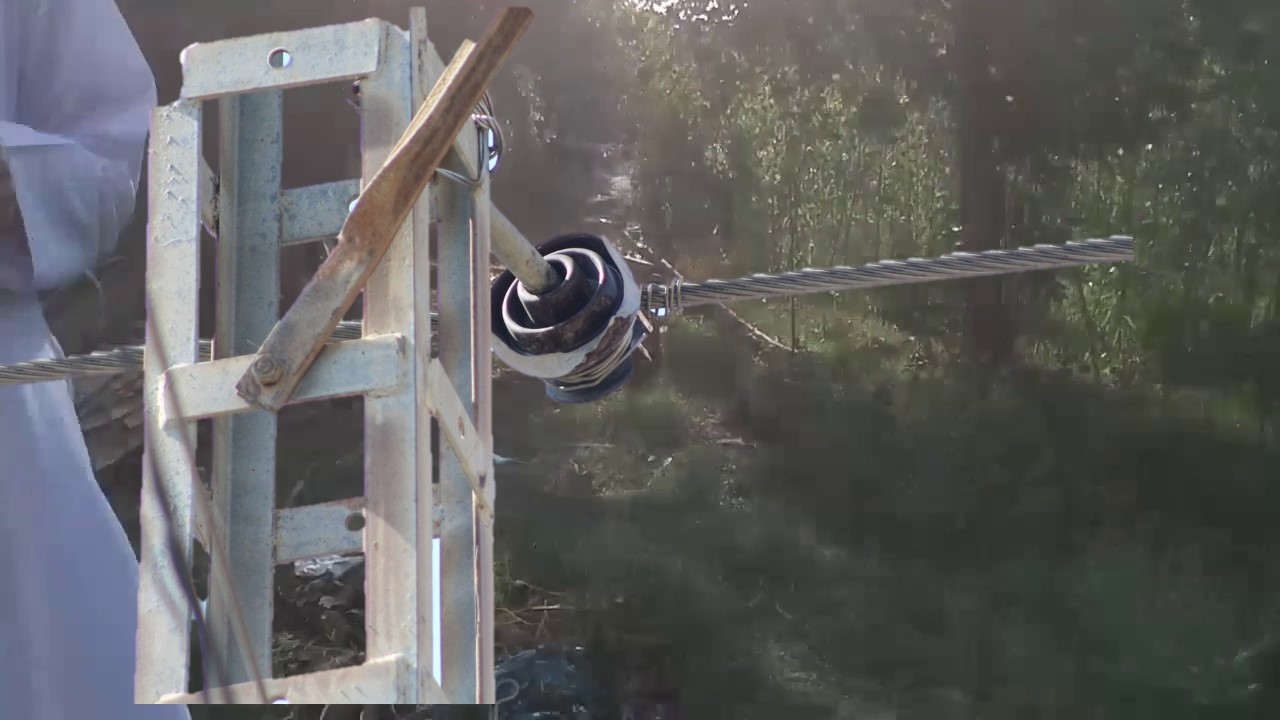defect_pin: (486, 230, 653, 411)
